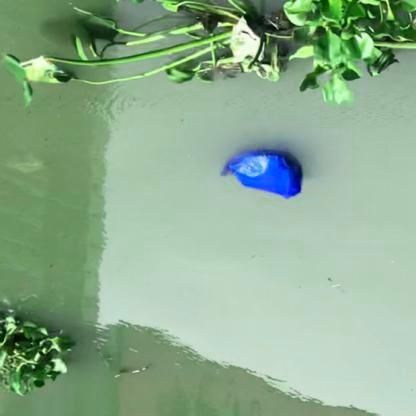Trash: (215, 145, 306, 201)
